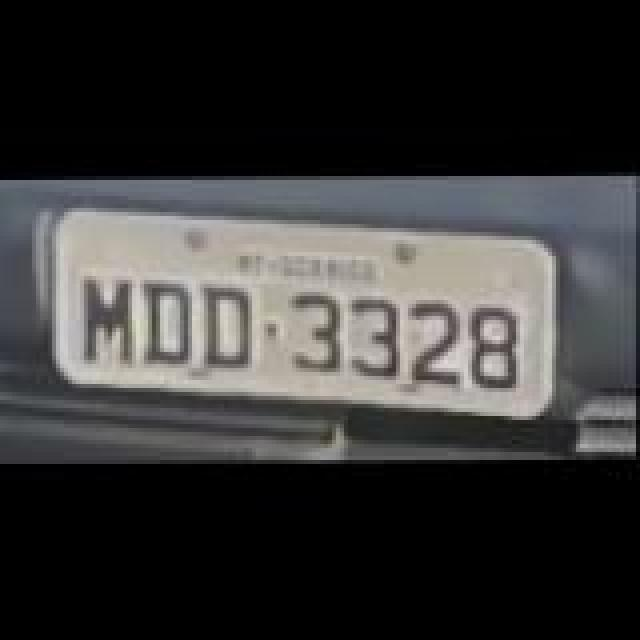2: (412, 298, 464, 386)
3: (292, 290, 344, 370), (352, 294, 404, 374)
8: (470, 304, 518, 388)
D: (142, 274, 198, 362), (202, 280, 258, 364)
M: (84, 272, 136, 360)
